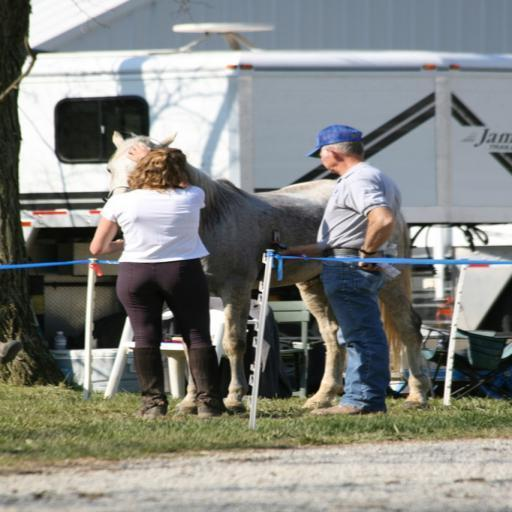horse: (104, 130, 436, 412)
